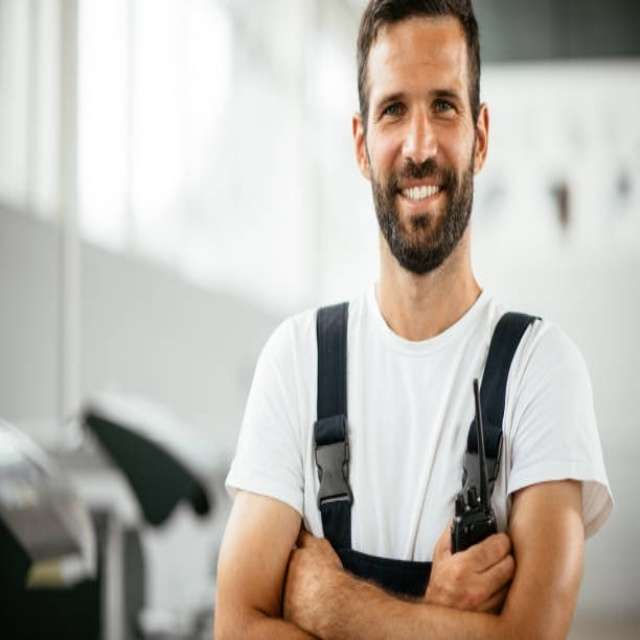Sin_gafas: (369, 80, 466, 130)
Sin_guantes: (420, 515, 518, 613)
Sin_mascara: (393, 163, 452, 226)
